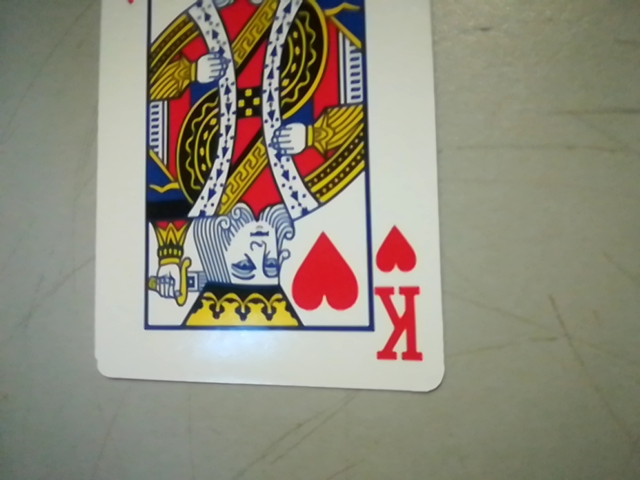hx k: (364, 218, 438, 379)
